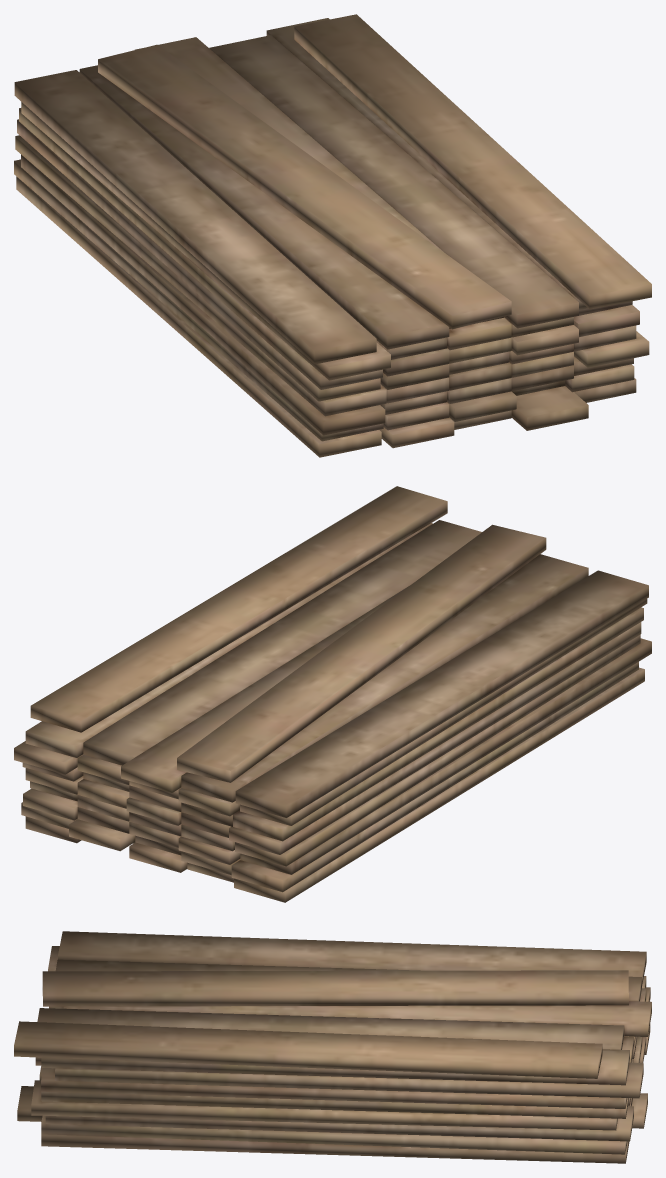
File: timber.glb
3 renders of one model, top to bottom at view 1: azimuth 30°, elevation 25°; view 2: azimuth 150°, elevation 25°; view 3: azimuth 270°, elevation 25°, orthographic. The views are drawn at different scales.
Visible parts, largest first — view 1: Planks_Planks_0; view 2: Planks_Planks_0; view 3: Planks_Planks_0.
Boxes of the visible parts, x1,y1,x2,y2 form: Planks_Planks_0: (14,14,651,457); Planks_Planks_0: (14,486,651,902); Planks_Planks_0: (14,931,651,1163).
Bounding box in the file's own units: 2.46 × 0.7824 × 4.5.
Materials: 1 (1 with a texture image).
